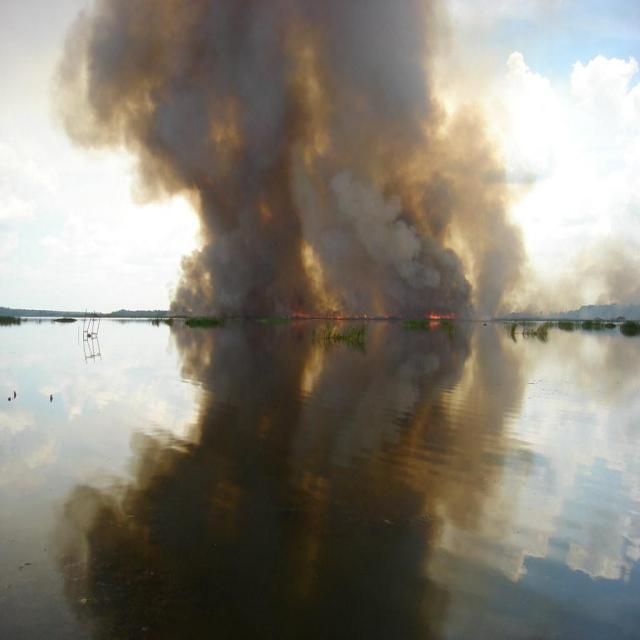Fire: (430, 310, 456, 321)
Smoke: (64, 6, 540, 302)
